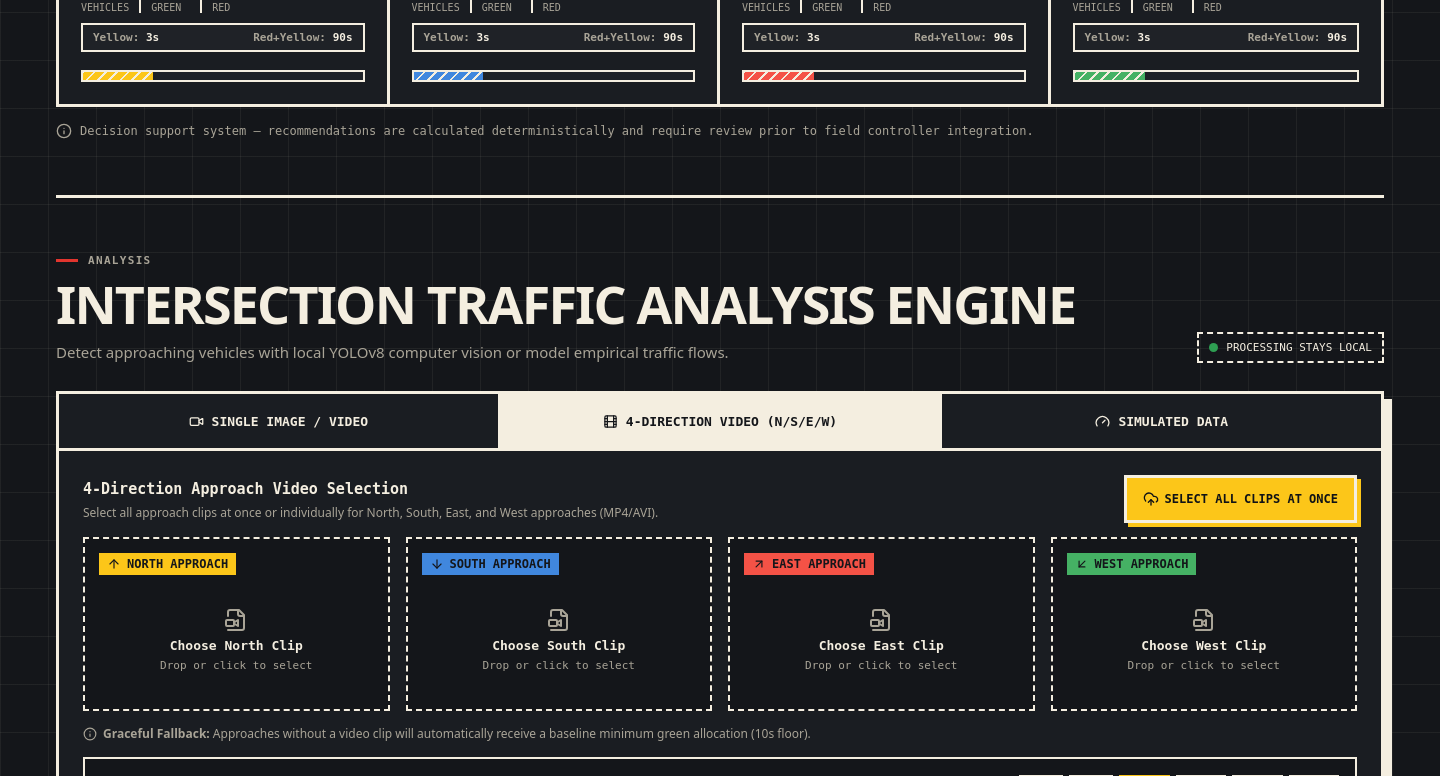
Issue #7: Electron Protocol & Frontend Error Standardization › 15. Renders frontend error messages without throwing or crashing the UI
(page scrolled)
Switch to simulation tab
Click the button "Simulated data" at (1160, 421), box [939,394,1381,448]
(page scrolled)
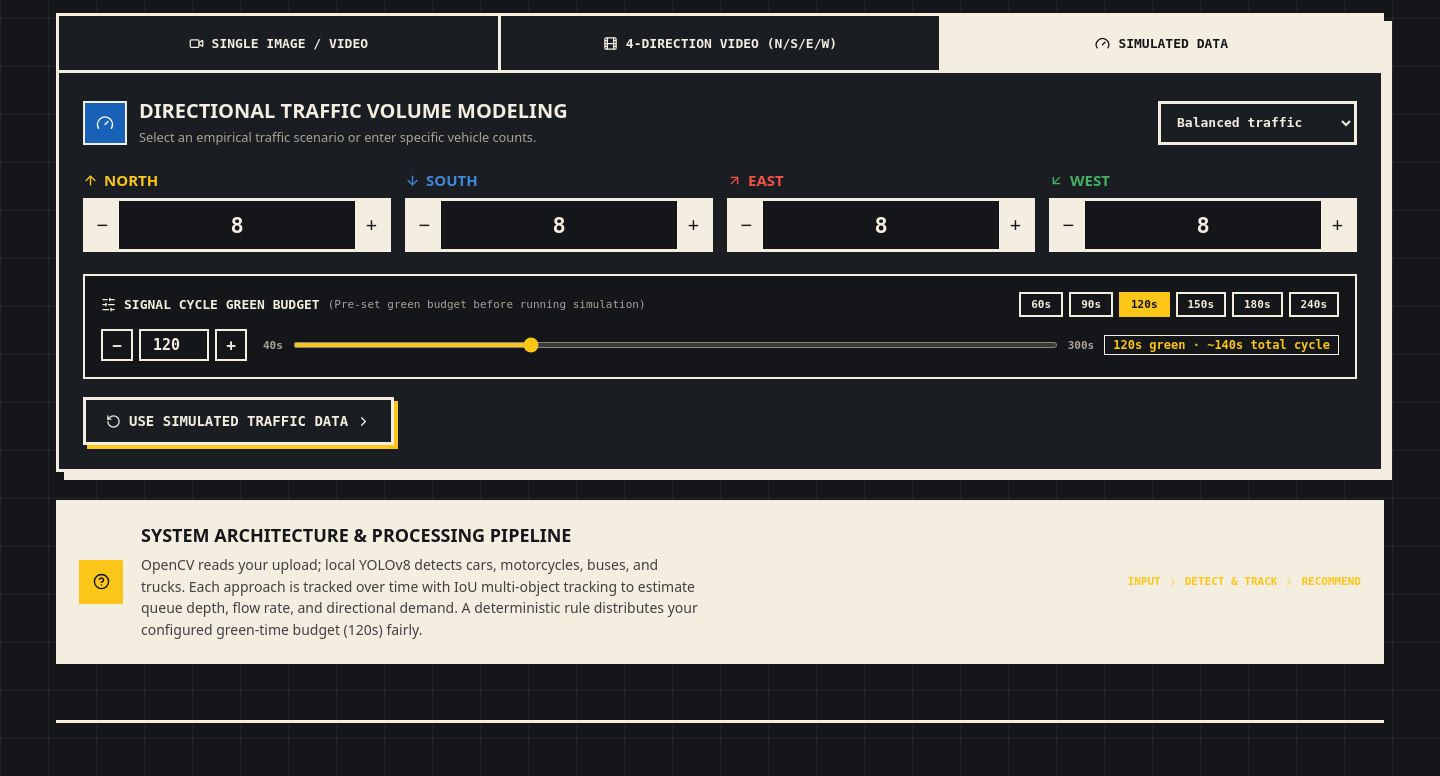
Click "Use simulated traffic data" button
Click the button "Use simulated traffic data" at (239, 421), box [83,397,394,445]
(page scrolled)
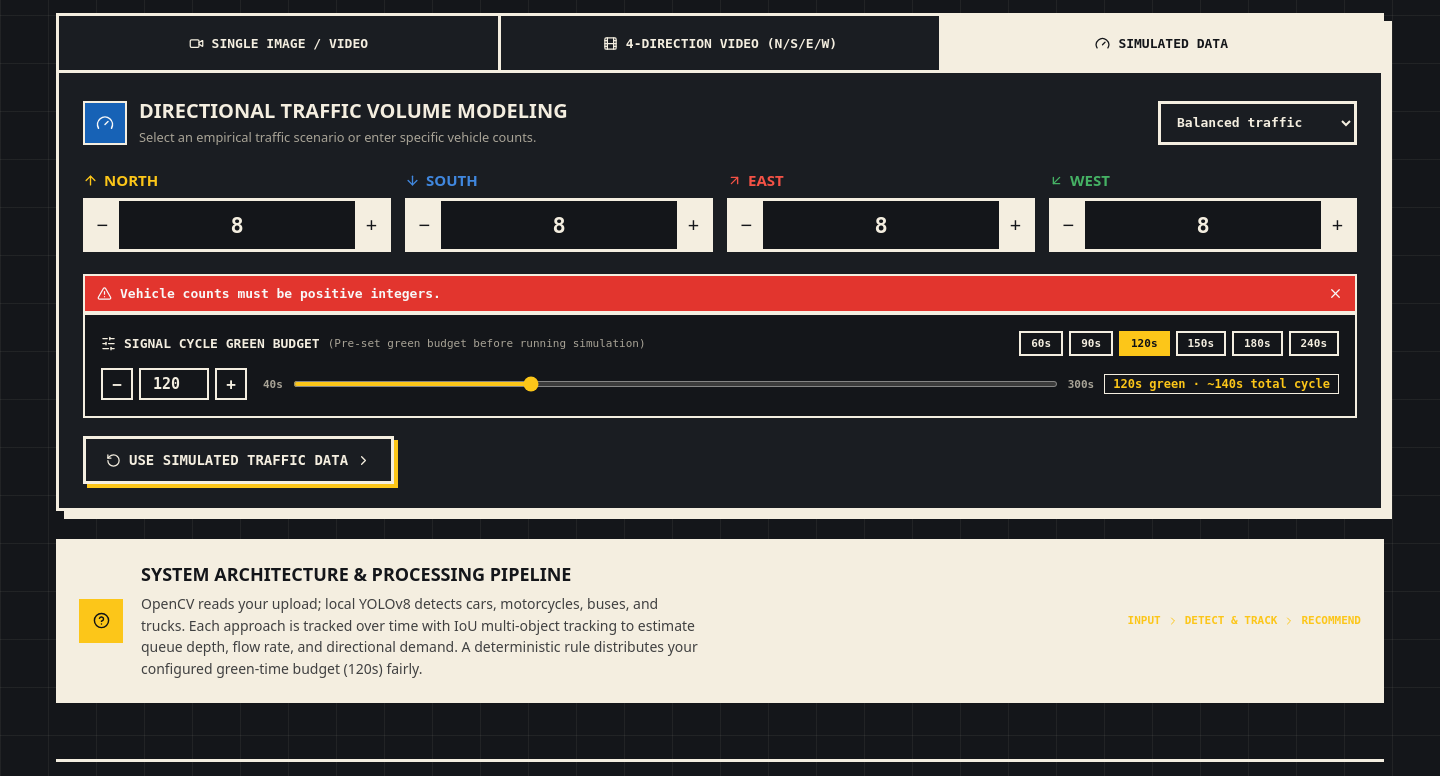
Expected: the text "Vehicle counts must be positive integers." is shown, [120,286,441,301]
